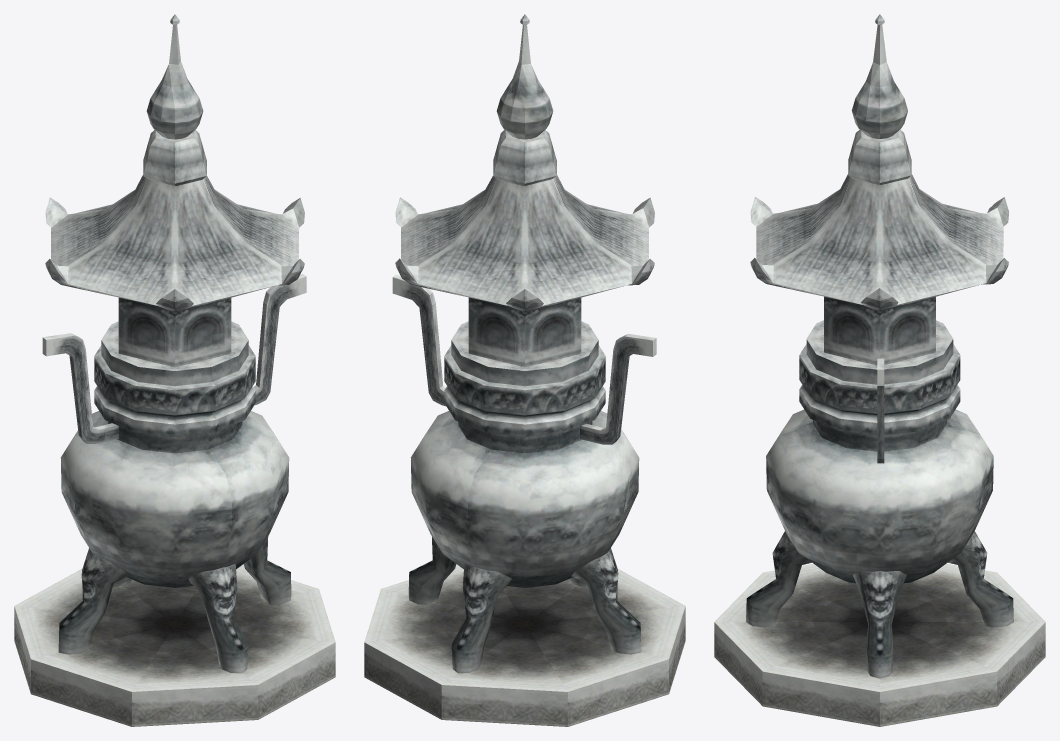
File: snow_brazier.fbx
The picture shows the model from 3 angles, left to right: view 1: azimuth 30°, elevation 25°; view 2: azimuth 150°, elevation 25°; view 3: azimuth 270°, elevation 25°; orthographic projection.
Visible parts, largest first — view 1: snow_brazier_02, snow_brazier_01; view 2: snow_brazier_02, snow_brazier_01; view 3: snow_brazier_02, snow_brazier_01.
Part boxes in pixels (<box>): snow_brazier_02: <box>14,14,335,726</box>; snow_brazier_01: <box>42,274,306,587</box>; snow_brazier_02: <box>364,14,685,726</box>; snow_brazier_01: <box>392,274,656,587</box>; snow_brazier_02: <box>714,14,1045,726</box>; snow_brazier_01: <box>766,320,993,583</box>.
Size of the model in its own units: 2.06 by 4.42 by 2.06.
